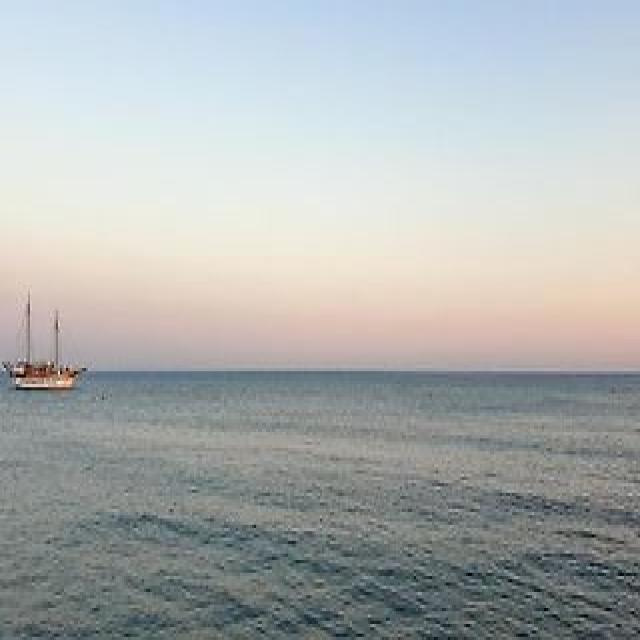fishing boat: (1, 288, 94, 404)
